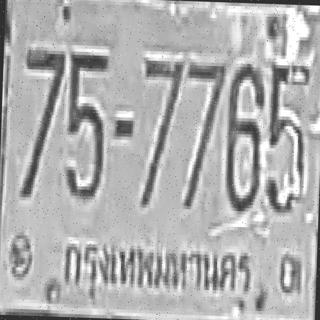N05: (263, 60, 309, 212), (63, 46, 107, 198)
N06: (222, 60, 264, 211)
N07: (20, 45, 64, 196), (138, 54, 182, 205), (182, 59, 224, 207)
P04: (58, 227, 262, 313)
